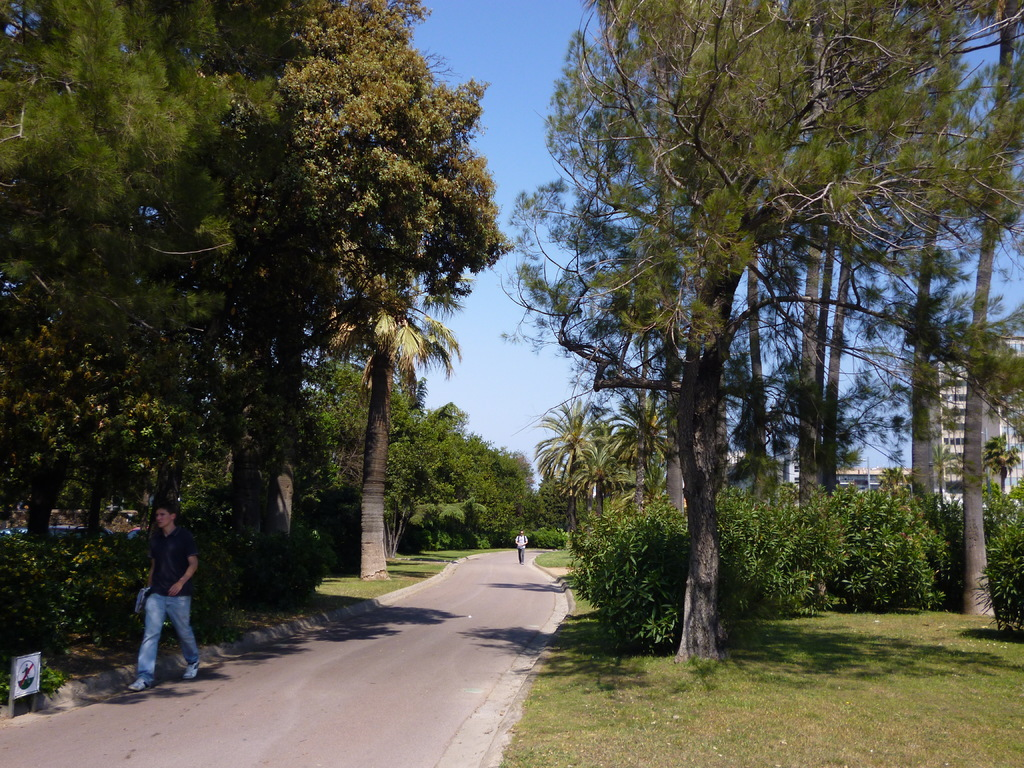tree: (497, 1, 1023, 668)
